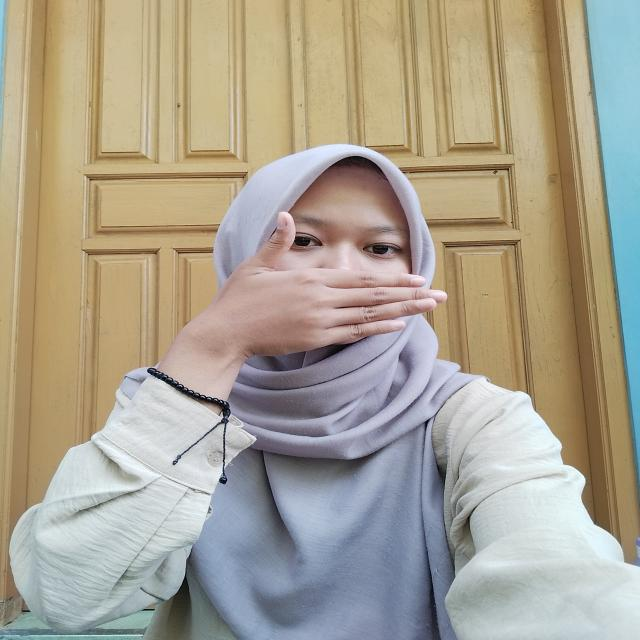buruk: (212, 208, 456, 366)
